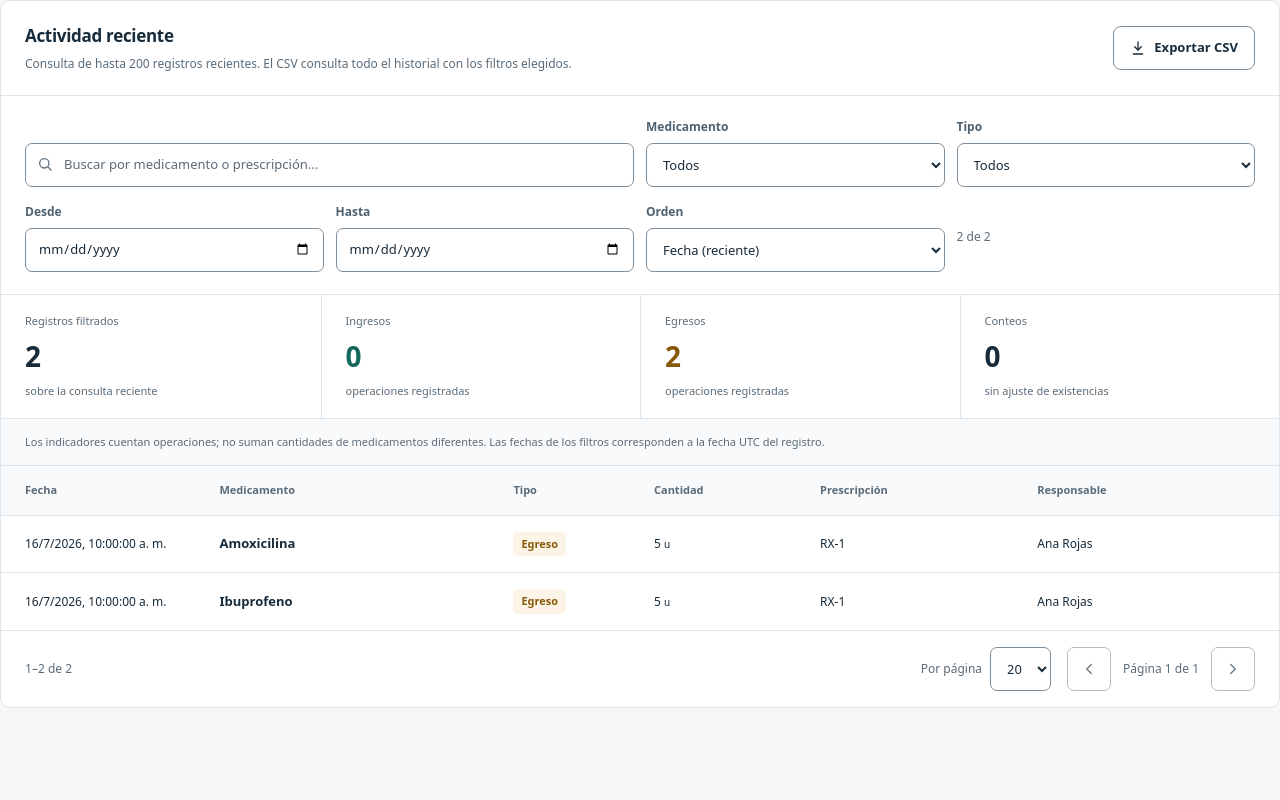
Test: MovementsTab › filtra por medicamento con el selector
Step 1. Select "Amoxicilina 1" in the dropdown named "Filtrar por medicamento" → (795, 165), box x1=646 y1=143 x2=944 y2=187
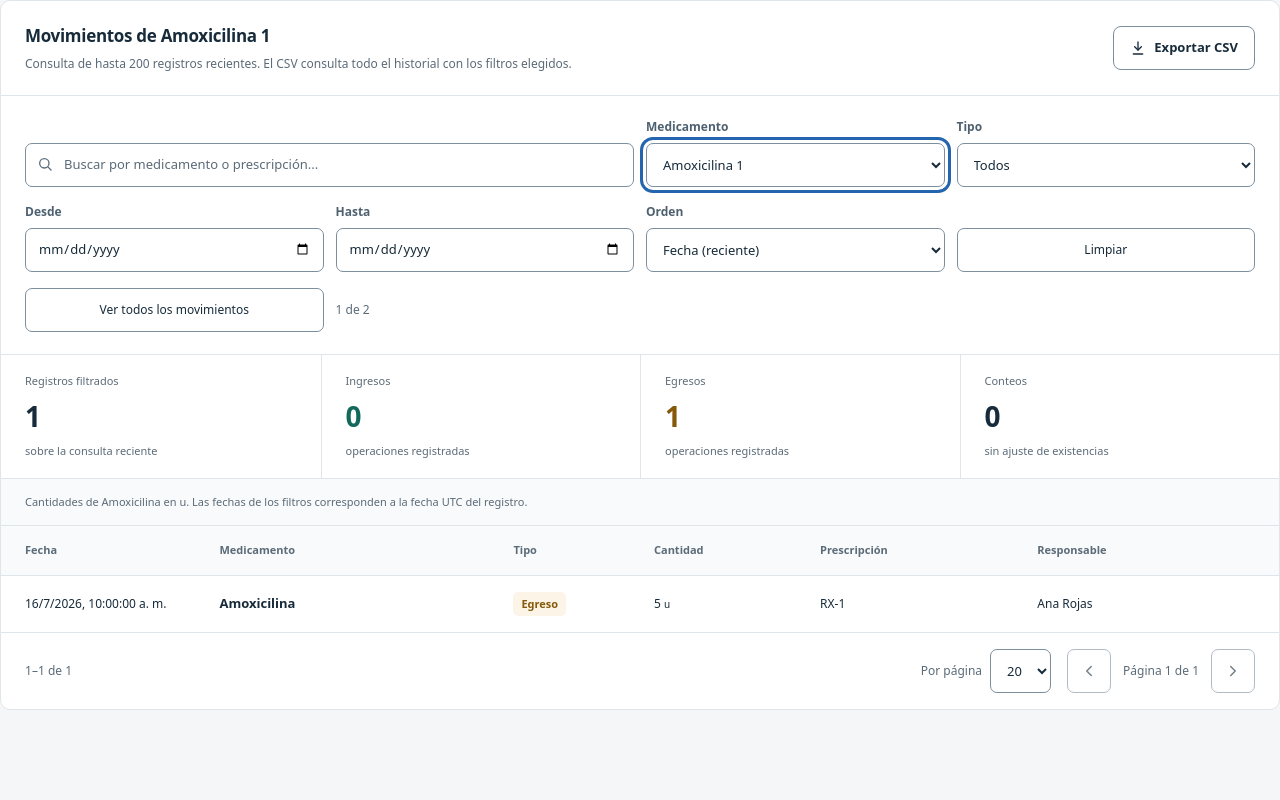
Check: the text "Amoxicilina" is shown, box x1=220 y1=594 x2=296 y2=612
Check: the text "Ibuprofeno" is gone
